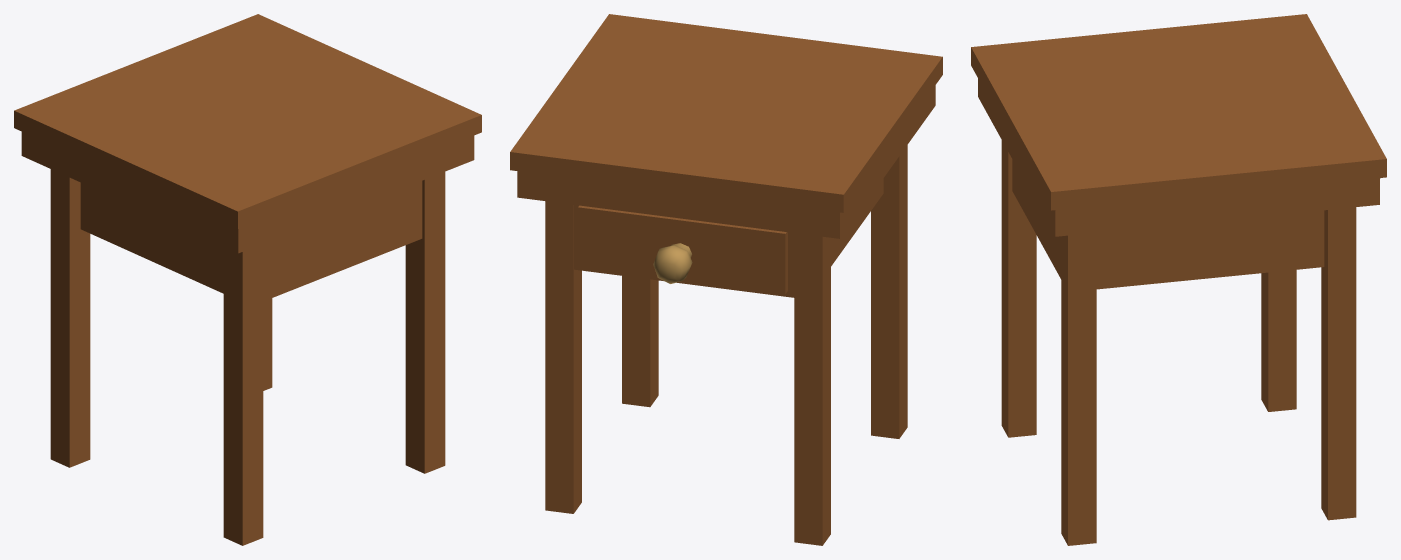
Rendered from mesa.fbx.
3 renders of one model, left to right at view 1: azimuth 30°, elevation 25°; view 2: azimuth 150°, elevation 25°; view 3: azimuth 270°, elevation 25°, orthographic. The views are drawn at different scales.
Visible parts, largest first — view 1: mesa; view 2: mesa; view 3: mesa.
Part boxes in pixels (x1,y1,x2,y2): mesa: (14, 14, 481, 545); mesa: (510, 14, 942, 545); mesa: (971, 14, 1386, 545).
Size of the model in its own units: 14.6 by 14.08 by 14.4.
